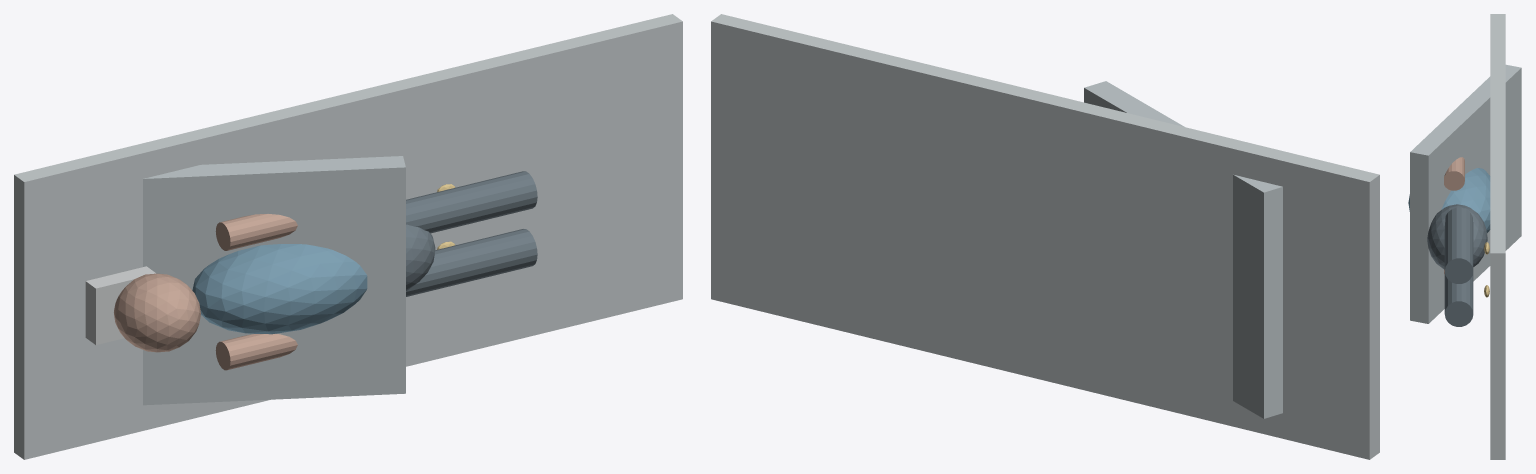
Rendered from semi-seated-medium.glb.
The picture shows the model from 3 angles, left to right: view 1: azimuth 30°, elevation 25°; view 2: azimuth 150°, elevation 25°; view 3: azimuth 270°, elevation 25°; orthographic projection. The views are drawn at different scales.
Visible parts, largest first — view 1: reference_surface, inclined_support_proxy, torso, head, right_leg, left_leg, head_support_proxy, right_arm, left_arm, pelvis; view 2: reference_surface, inclined_support_proxy; view 3: inclined_support_proxy, reference_surface, right_leg, pelvis, torso, left_leg, right_arm.
Boxes of the visible parts, box(x1,y1,x2,y2) form: reference_surface: box(14, 14, 682, 459); inclined_support_proxy: box(143, 156, 405, 405); torso: box(192, 244, 367, 334); head: box(114, 273, 200, 352); right_leg: box(406, 171, 537, 233); left_leg: box(406, 229, 537, 296); head_support_proxy: box(85, 266, 155, 344); right_arm: box(215, 214, 297, 250); left_arm: box(215, 334, 297, 370); pelvis: box(406, 224, 435, 290); reference_surface: box(711, 14, 1379, 459); inclined_support_proxy: box(1084, 81, 1282, 418); inclined_support_proxy: box(1410, 64, 1521, 323); reference_surface: box(1490, 14, 1505, 459); right_leg: box(1444, 207, 1473, 283); pelvis: box(1427, 204, 1487, 269); torso: box(1408, 168, 1490, 233); left_leg: box(1444, 272, 1473, 326); right_arm: box(1444, 157, 1464, 190).
Bounding box in the file's own units: 6.7 × 2.7 × 1.34.
